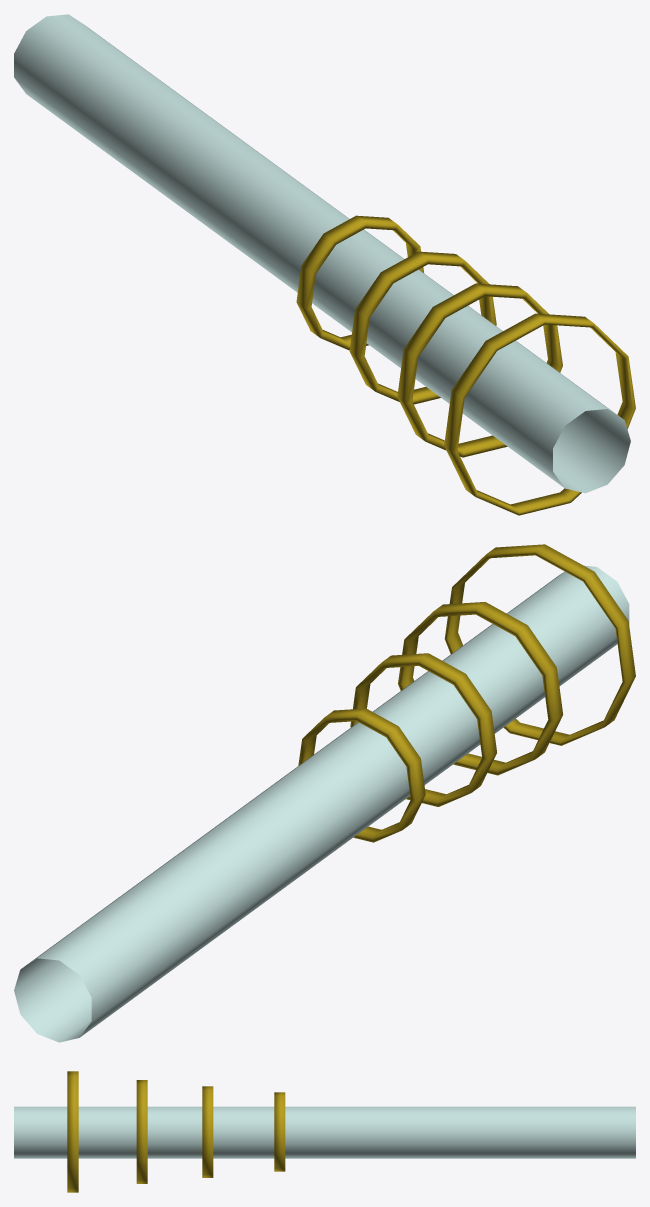
File: ElectricModuleRect.FBX
The picture shows the model from 3 angles, top to bottom: view 1: azimuth 30°, elevation 25°; view 2: azimuth 150°, elevation 25°; view 3: azimuth 270°, elevation 25°; orthographic projection. The views are drawn at different scales.
Visible parts, largest first — view 1: ElectricModuleRec, ArosModuleRect; view 2: ElectricModuleRec, ArosModuleRect; view 3: ElectricModuleRec, ArosModuleRect.
Part boxes in pixels (x1,y1,x2,y2): ElectricModuleRec: (14,14,630,493); ArosModuleRect: (296,215,635,515); ElectricModuleRec: (14,565,629,1042); ArosModuleRect: (298,544,635,842); ElectricModuleRec: (14,1106,635,1158); ArosModuleRect: (67,1071,285,1192).
Bounding box in the file's own units: 19.51 × 19.32 × 100.
